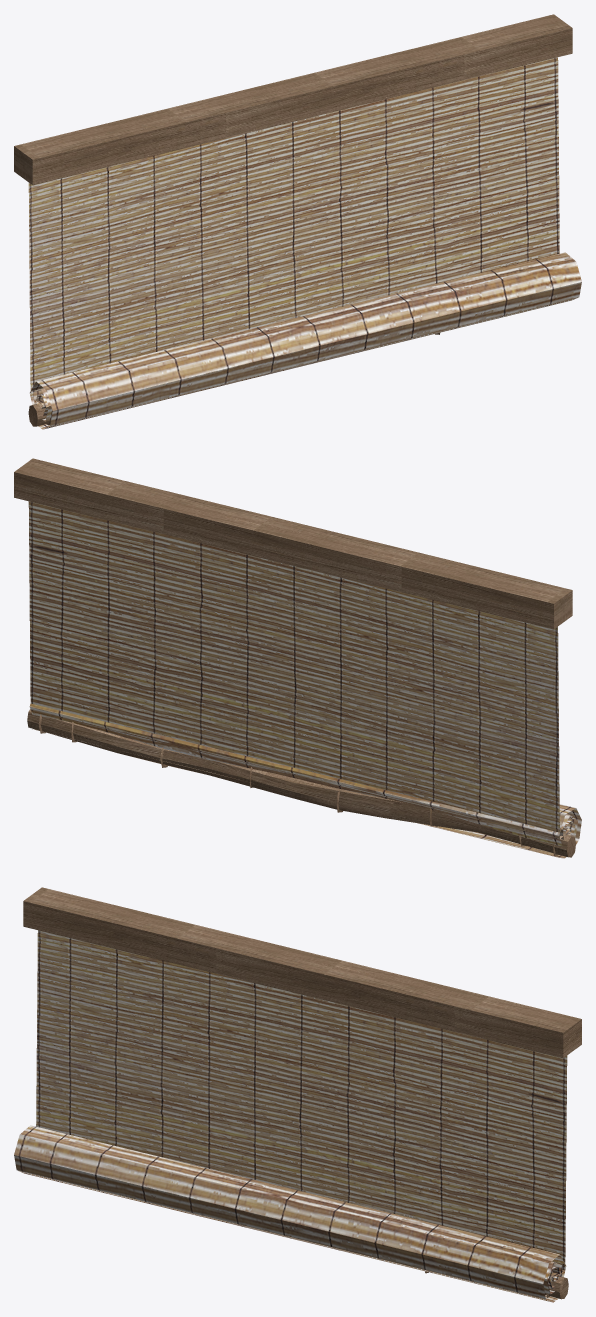
3 views of the same model, one above another, from view 1: azimuth 30°, elevation 25°; view 2: azimuth 150°, elevation 25°; view 3: azimuth 330°, elevation 25° (orthographic).
Visible parts, largest first — view 1: QH-帘子; view 2: QH-帘子; view 3: QH-帘子.
Part boxes in pixels (x1,y1,x2,y2): QH-帘子: [14, 14, 581, 429]; QH-帘子: [14, 458, 581, 858]; QH-帘子: [14, 887, 581, 1302].
Size of the model in its own units: 1.95 by 0.209 by 0.9491.
